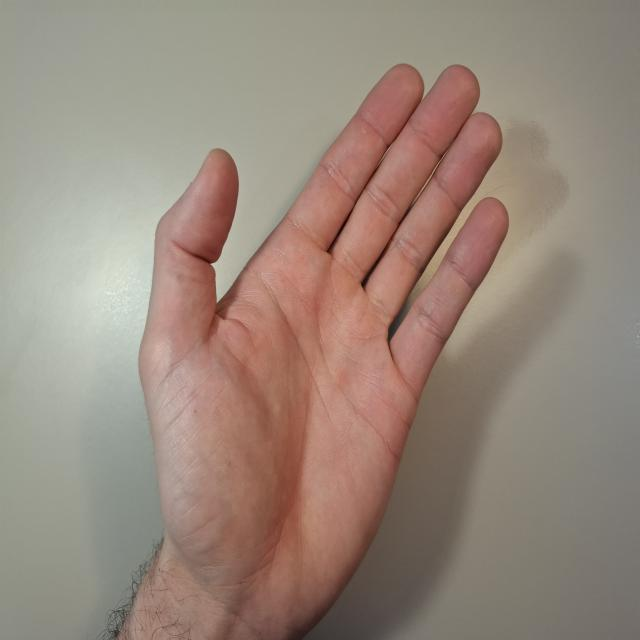glove_off: (134, 61, 510, 640)
